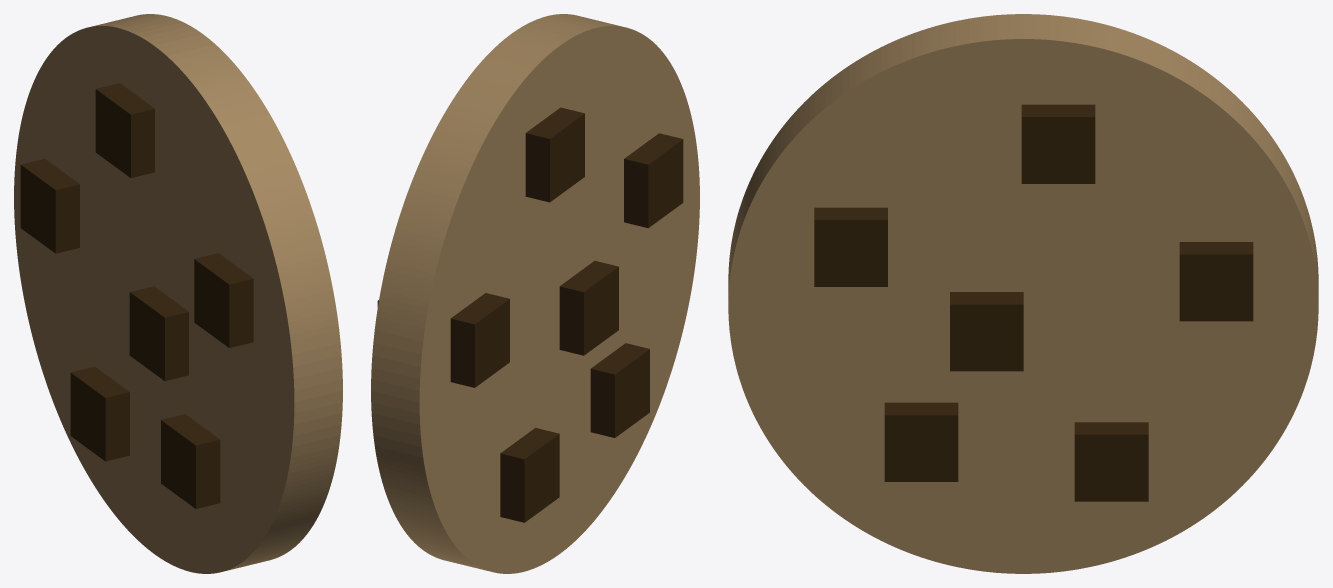
File: cookies.fbx
The picture shows the model from 3 angles, left to right: view 1: azimuth 30°, elevation 25°; view 2: azimuth 150°, elevation 25°; view 3: azimuth 270°, elevation 25°; orthographic projection. The views are drawn at different scales.
Parts seen in each view (by area): view 1: Object_13, Object_12, Object_7, Object_8, Object_11, Object_9, Object_10; view 2: Object_13, Object_7, Object_8, Object_11, Object_9, Object_12, Object_10; view 3: Object_13, Object_2, Object_1, Object_3, Object_4, Object_5, Object_6.
Part boxes in pixels (box(x1,y1,x2,y2)): Object_13: box(14, 14, 342, 573); Object_12: box(194, 253, 253, 347); Object_7: box(20, 159, 79, 253); Object_8: box(70, 366, 129, 461); Object_11: box(129, 286, 188, 380); Object_9: box(95, 83, 154, 177); Object_10: box(161, 414, 220, 508); Object_13: box(371, 14, 699, 573); Object_7: box(450, 293, 509, 387); Object_8: box(500, 428, 559, 522); Object_11: box(559, 261, 618, 355); Object_9: box(525, 107, 584, 202); Object_12: box(624, 133, 683, 228); Object_10: box(590, 343, 649, 437); Object_13: box(728, 14, 1318, 573); Object_2: box(1074, 422, 1148, 501); Object_1: box(1179, 242, 1253, 321); Object_3: box(1021, 104, 1095, 183); Object_4: box(884, 402, 958, 481); Object_5: box(950, 292, 1023, 371); Object_6: box(814, 207, 887, 286).
Size of the model in its own units: 40 by 200 by 200.
